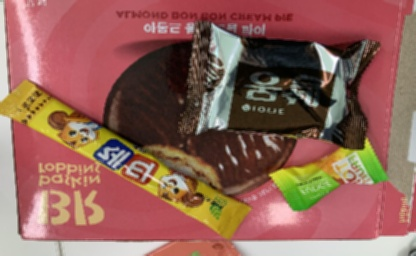jeli: (266, 132, 389, 213)
jt: (2, 78, 253, 238)
mon: (172, 17, 384, 151)
